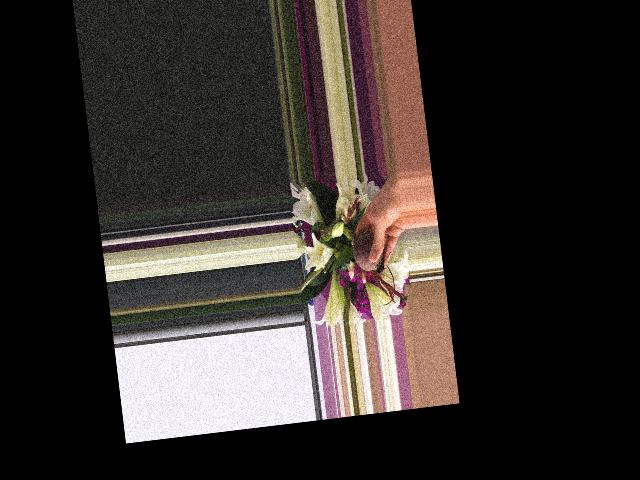beet: (343, 220, 386, 277)
